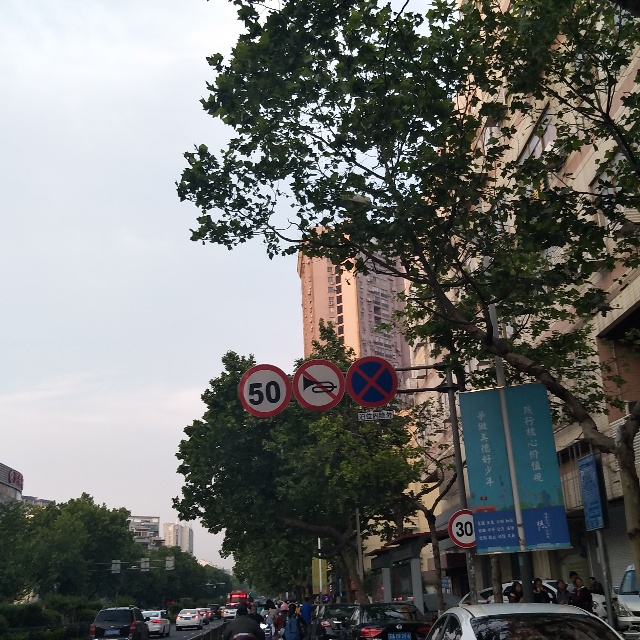nohonk: (298, 364, 342, 411)
stop: (349, 363, 395, 405)
